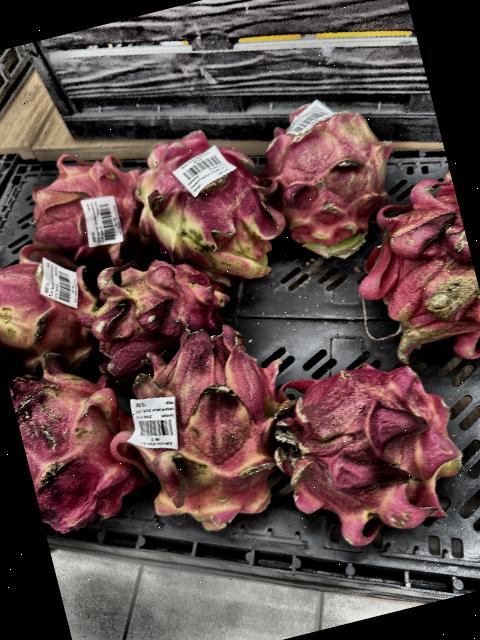buah-naga-belum-matang: (110, 317, 292, 544), (130, 126, 288, 312), (3, 336, 143, 536), (241, 89, 398, 264), (55, 232, 226, 373), (347, 186, 480, 362), (0, 233, 127, 378), (14, 135, 151, 266)
